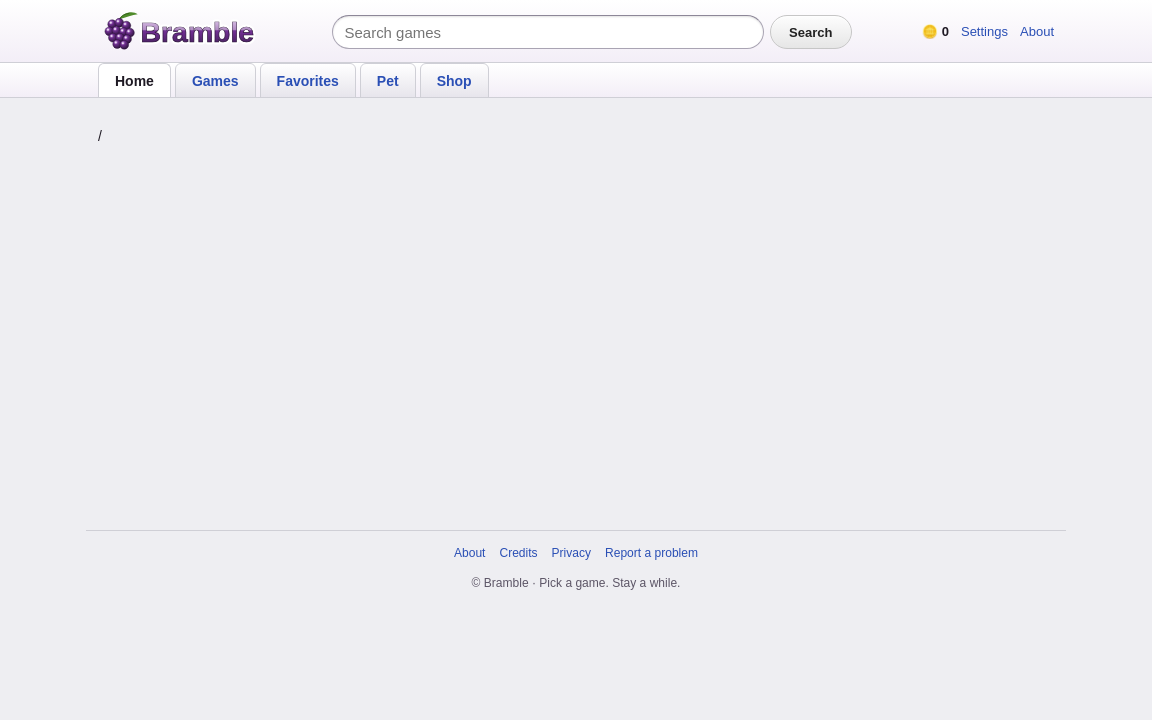
Test: submitting header search navigates to /games?q=orbit
Step 1. Type "orbit" into the search field labelled "Search games" → (548,32), box [332,15,764,49]
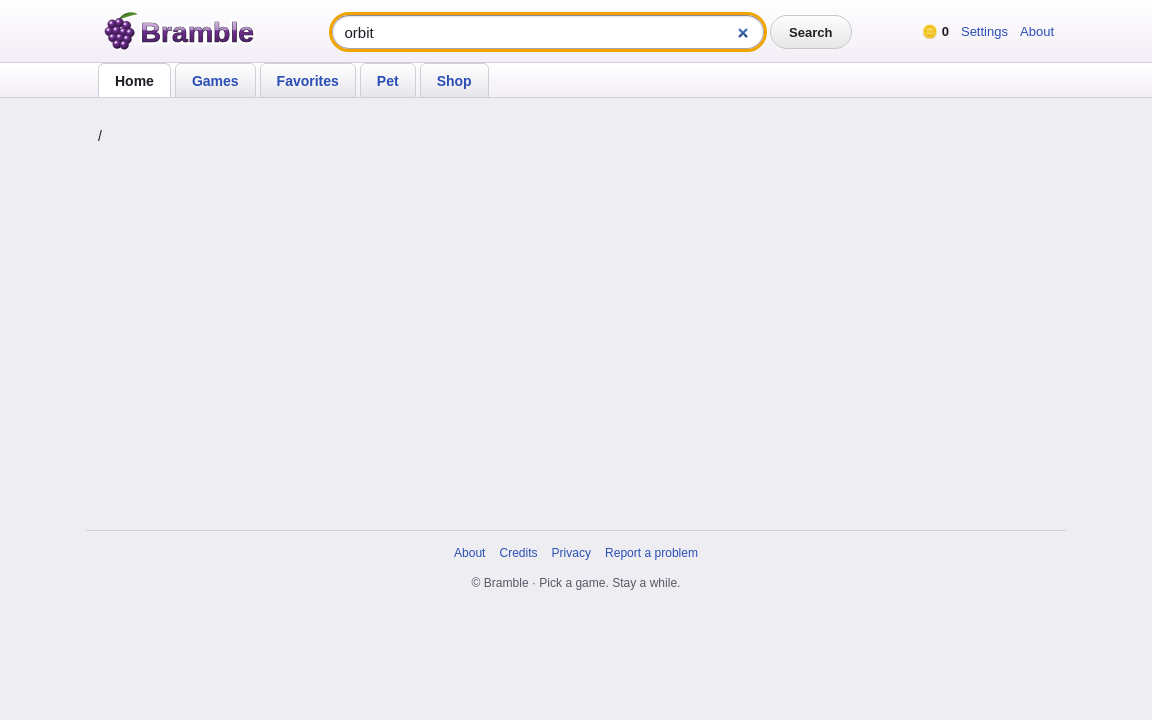
Step 2. Click the button "Search" → (811,32), box [770,15,852,49]
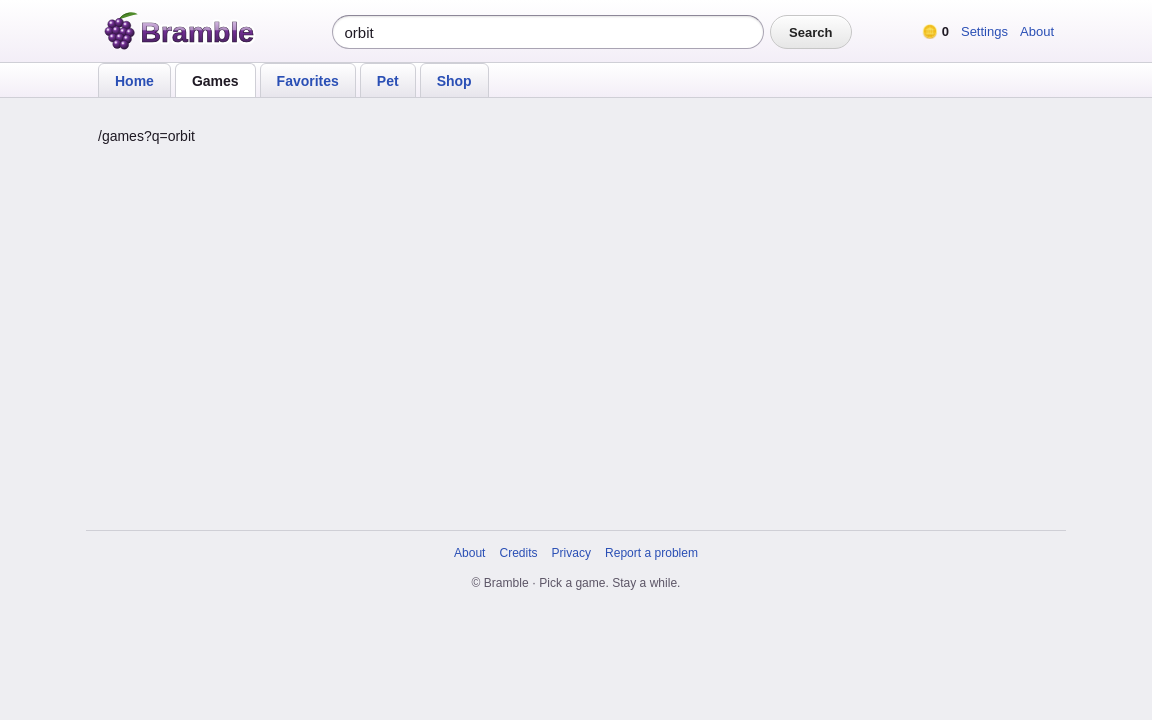
Now the text with test id "where" reads "/games?q=orbit", box [98,128,195,144]
